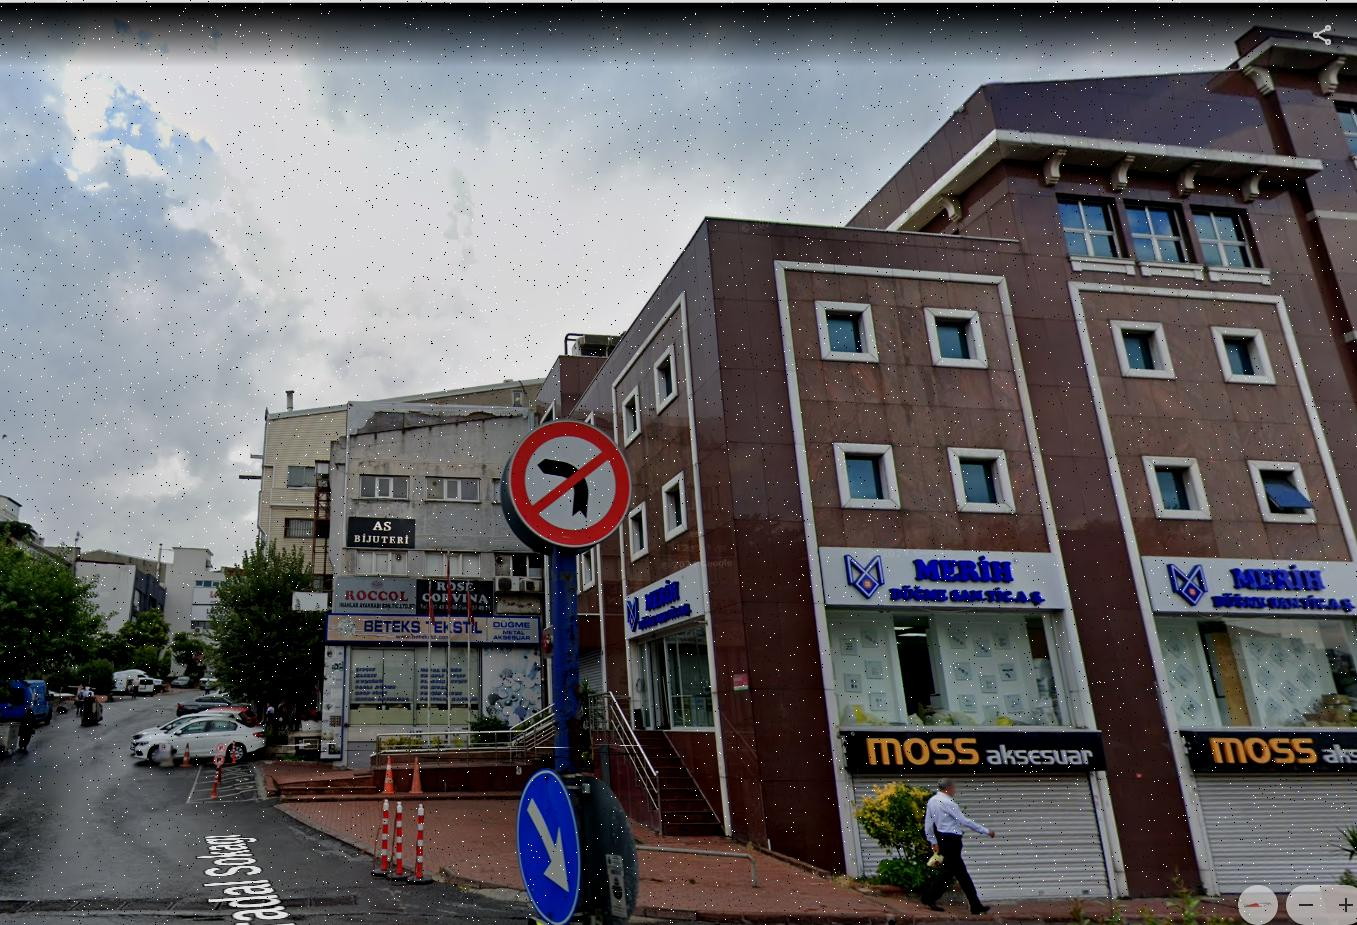leftturnsareforbidden: (516, 427, 631, 539)
